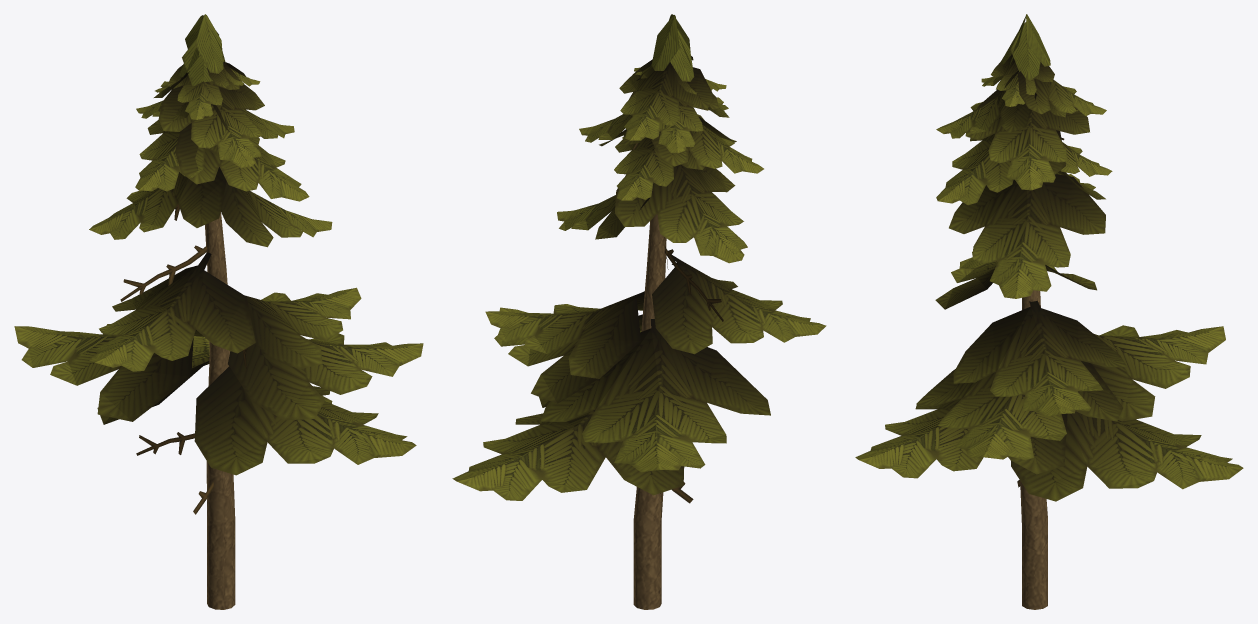
File: Tree2.glb
The picture shows the model from 3 angles, left to right: view 1: azimuth 30°, elevation 25°; view 2: azimuth 150°, elevation 25°; view 3: azimuth 270°, elevation 25°; orthographic projection. The views are drawn at different scales.
Parts seen in each view (by area): view 1: Leaves/001; view 2: Leaves/001; view 3: Leaves/001.
Part boxes in pixels (bbox=[...]): Leaves/001: bbox=[14, 14, 423, 609]; Leaves/001: bbox=[452, 14, 826, 609]; Leaves/001: bbox=[855, 14, 1243, 609].
Bounding box in the file's own units: 1.77 × 3.08 × 1.87.
Materials: 2 (2 with a texture image).
